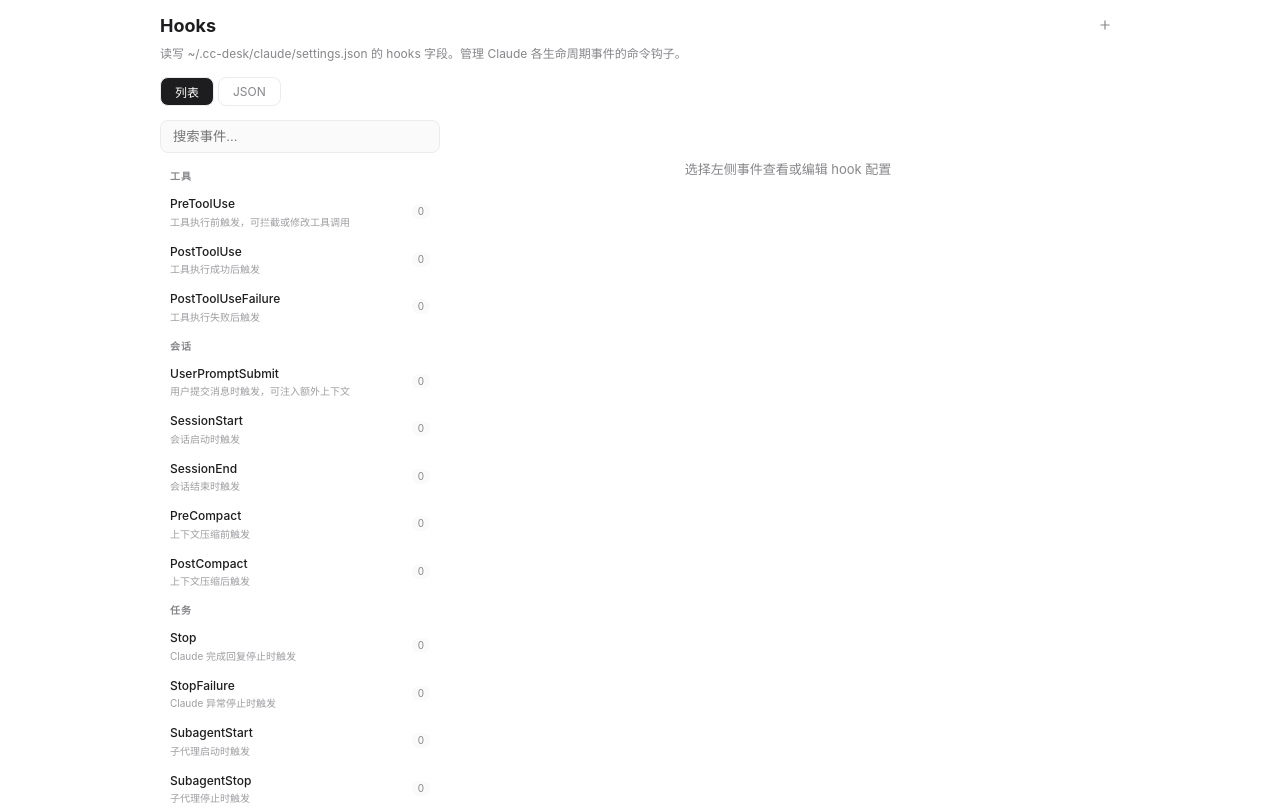
Test case: HooksSettings › 列表/JSON 视图切换
Expected: the heading "Hooks" is shown, [160,12,216,39]
What coordinates should you click on to do the following:
click the button "JSON"
I would click on:
 (249, 92)
Its box is [218,77,281,106].
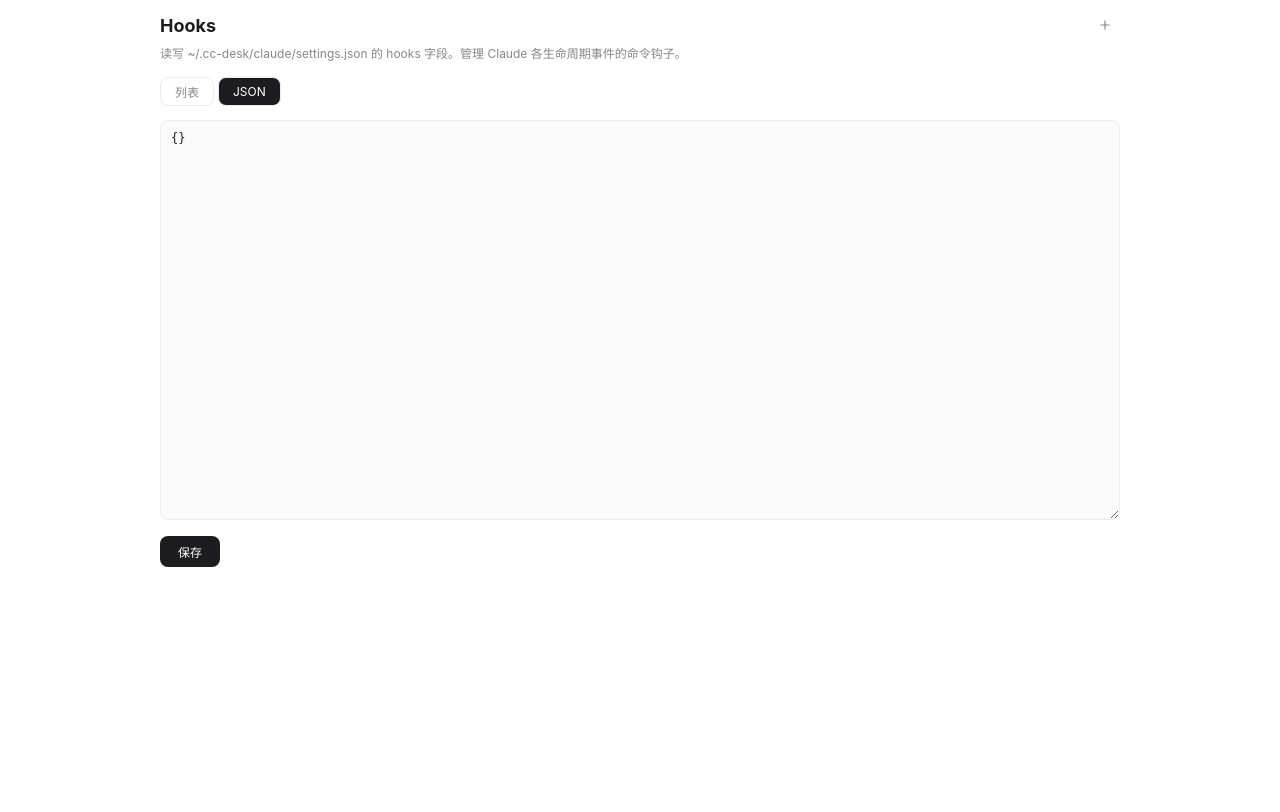
Now the text box is shown, box [160,120,1120,520]
